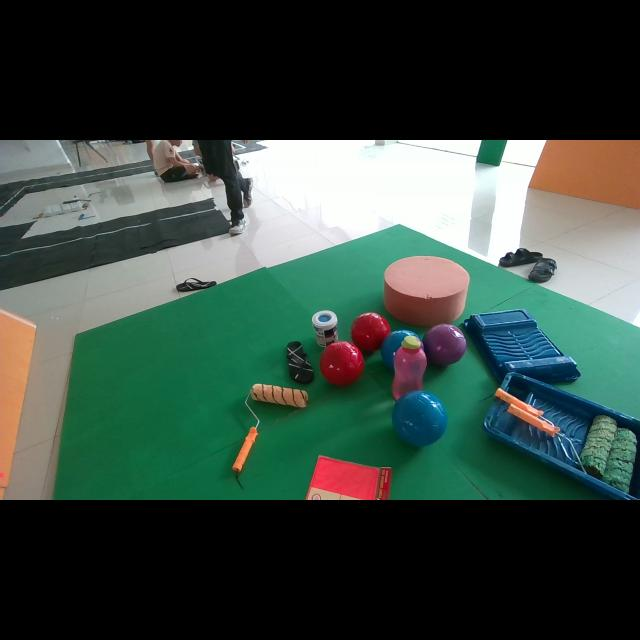B: (391, 390, 448, 446), (381, 330, 419, 370)
P: (422, 324, 466, 366)
R: (320, 341, 364, 386), (350, 312, 391, 352)
